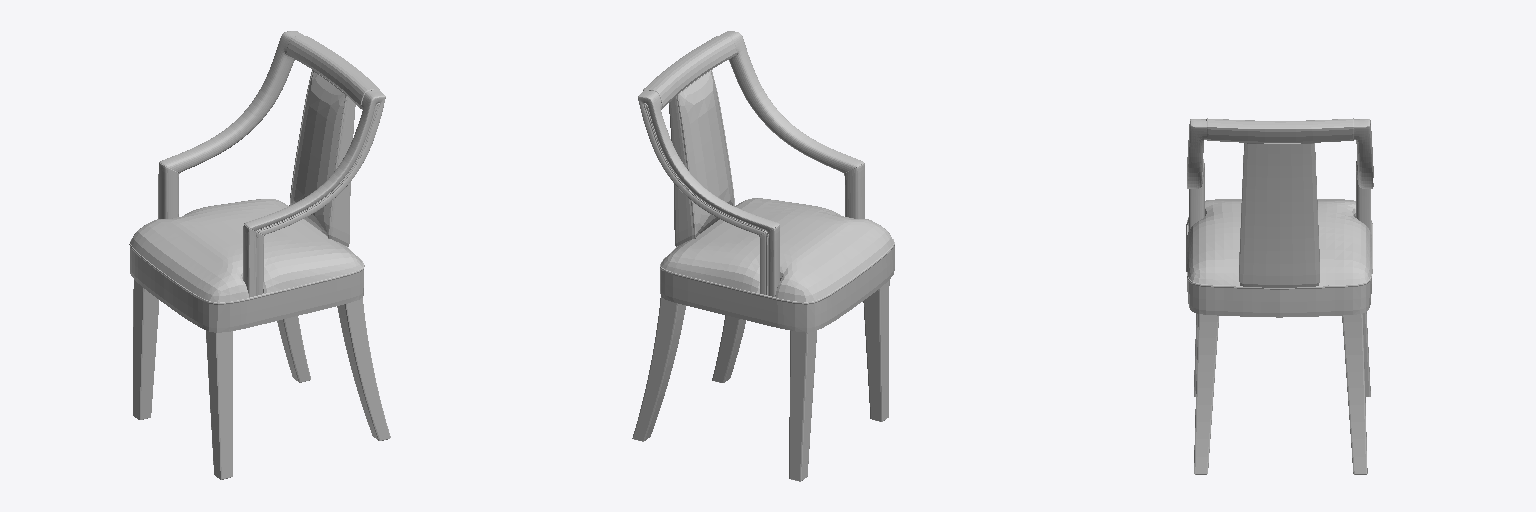
File: Chair.obj
3 renders of one model, left to right at view 1: azimuth 30°, elevation 25°; view 2: azimuth 150°, elevation 25°; view 3: azimuth 270°, elevation 25°, orthographic.
Parts seen in each view (by area): view 1: Box001, Box003, Line001; view 2: Box001, Box003, Line001; view 3: Box001, Box003, Line001.
Part boxes in pixels (x1,y1,x2,y2): Box001: (129,36,379,332); Box003: (133,280,390,479); Line001: (158,31,385,296); Box001: (643,36,894,332); Box003: (632,280,889,481); Line001: (638,31,864,296); Box001: (1186,118,1372,317); Box003: (1194,312,1370,474); Line001: (1187,119,1373,231).
Bounding box in the file's own units: 20.94 × 37.66 × 18.39.